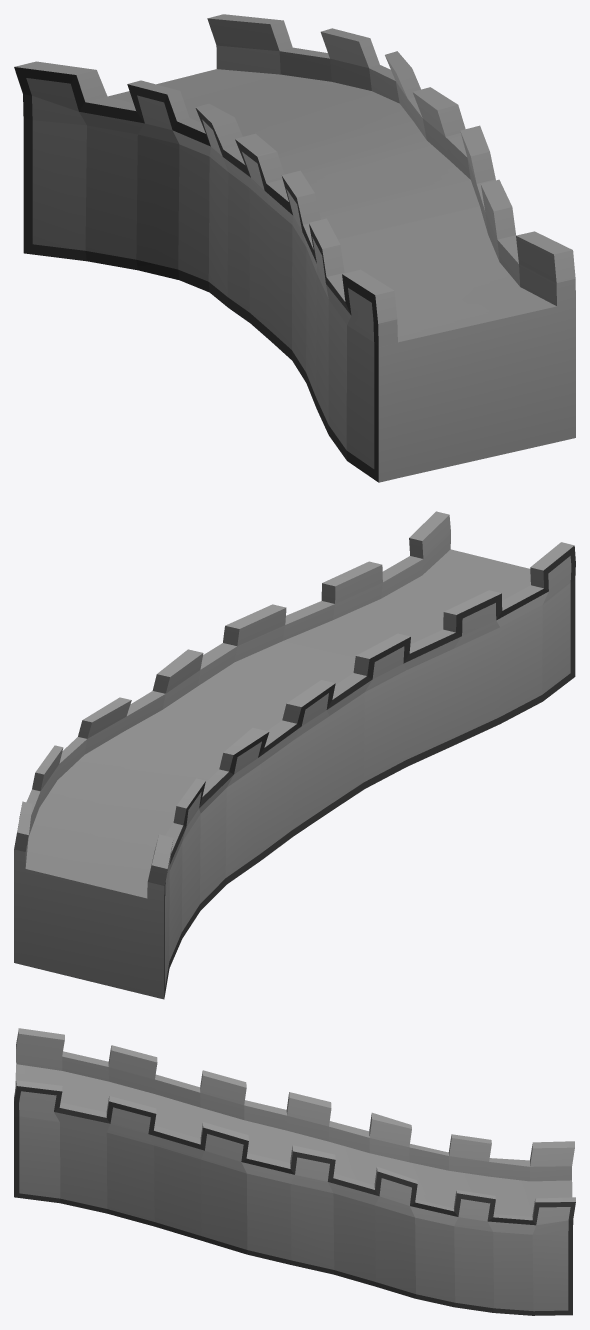
File: stair 3.fbx
The picture shows the model from 3 angles, top to bottom: view 1: azimuth 30°, elevation 25°; view 2: azimuth 150°, elevation 25°; view 3: azimuth 270°, elevation 25°; orthographic projection. The views are drawn at different scales.
Visible parts, largest first — view 1: Cube.355; view 2: Cube.355; view 3: Cube.355.
Boxes of the visible parts, <box> form: Cube.355: <box>14,14,575,482</box>; Cube.355: <box>14,511,575,999</box>; Cube.355: <box>14,1028,575,1315</box>.
Bounding box in the file's own units: 12.82 × 10.69 × 28.1.
1 material, 1 textured.
